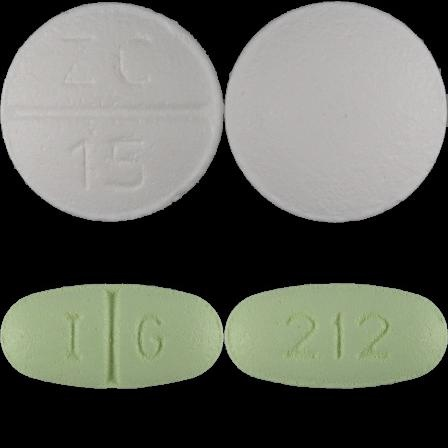64725-0197: (0, 0, 224, 224)
